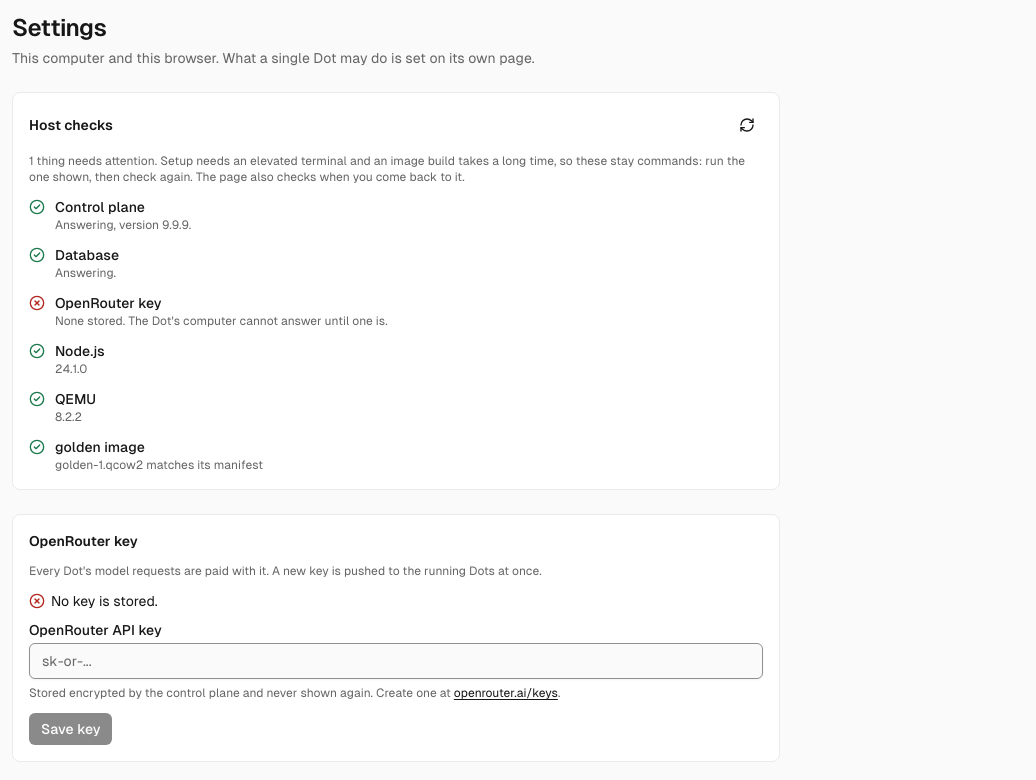
Test case: Settings: the OpenRouter key › saves the key, says how many running Dots got it, empties the field and tells the rest of the page
The width and height of the screenshot is (1036, 780).
Expected: the heading "Settings" is shown, [12,14,106,41]
Type "  sk-or-v1-abcdef  " into the password field labelled "OpenRouter API key" at (396, 661), box [29,643,763,679]
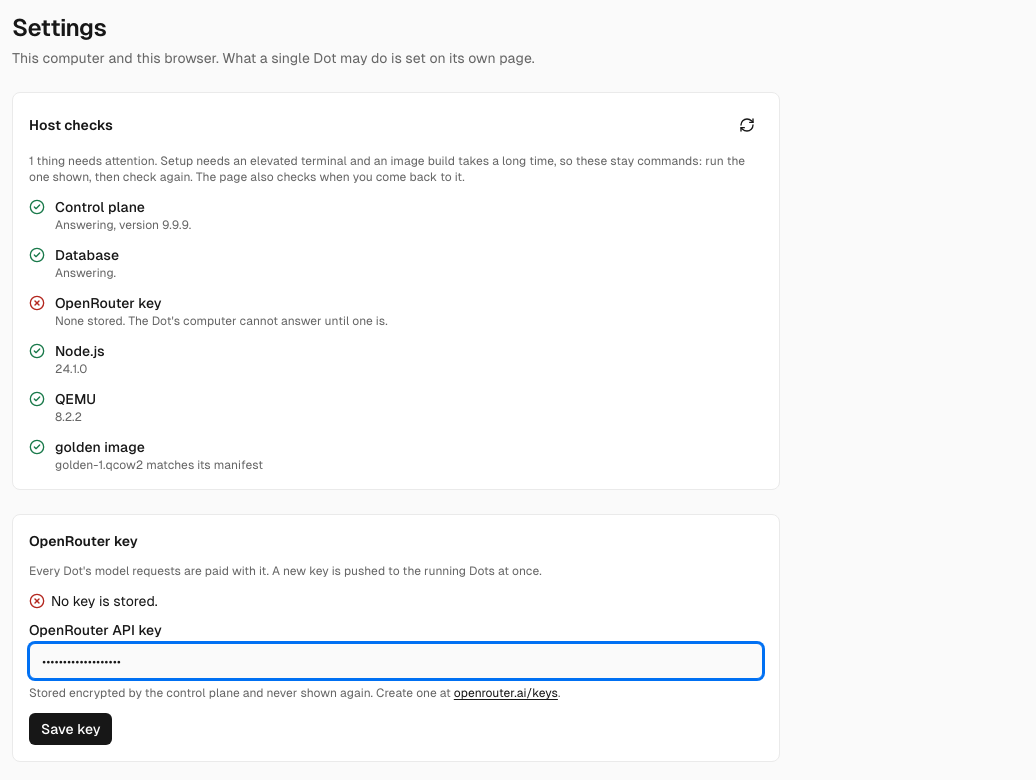
Click the button "Save key" at (71, 729), box [29,713,112,745]
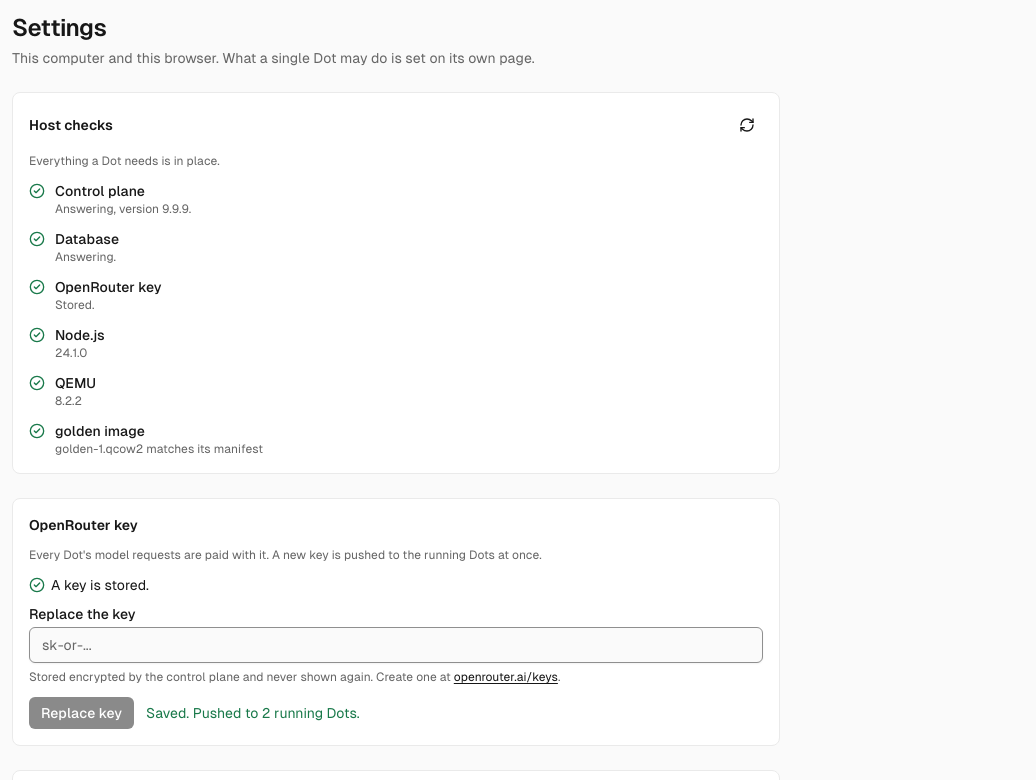
Expected: the text "Saved. Pushed to 2 running Dots." is shown, [146,703,360,723]
Expected: the password field labelled "Replace the key" is empty, [29,627,763,663]
Expected: the text "A key is stored." is shown, [29,577,149,593]
